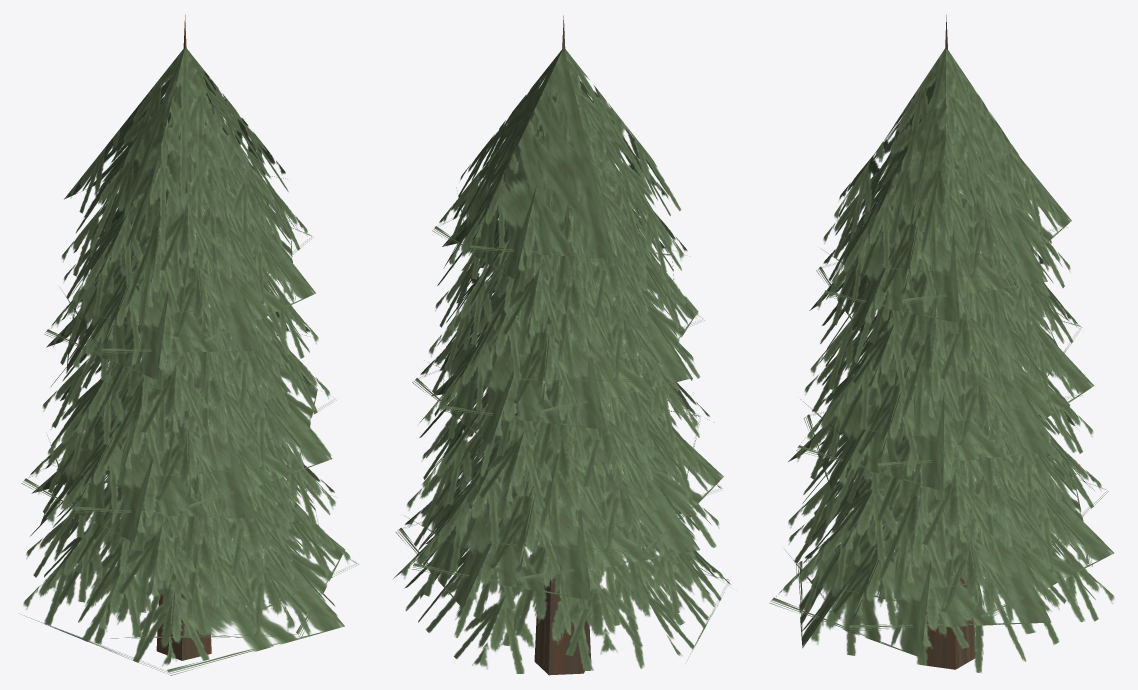
The model's file is TreefaitMaison.glb.
3 renders of one model, left to right at view 1: azimuth 30°, elevation 25°; view 2: azimuth 150°, elevation 25°; view 3: azimuth 270°, elevation 25°, orthographic. The views are drawn at different scales.
Parts seen in each view (by area): view 1: Cône.001, Cône; view 2: Cône.001, Cône; view 3: Cône.001, Cône.
Boxes of the visible parts, left/top/right/bottom form: Cône.001: left=21, top=48, right=358, bottom=675; Cône: left=156, top=15, right=211, bottom=660; Cône.001: left=393, top=49, right=730, bottom=673; Cône: left=534, top=15, right=590, bottom=675; Cône.001: left=769, top=48, right=1114, bottom=672; Cône: left=925, top=15, right=975, bottom=669.
Bounding box in the file's own units: 5.83 × 12 × 5.99.
Materials: 2 (2 with a texture image).
